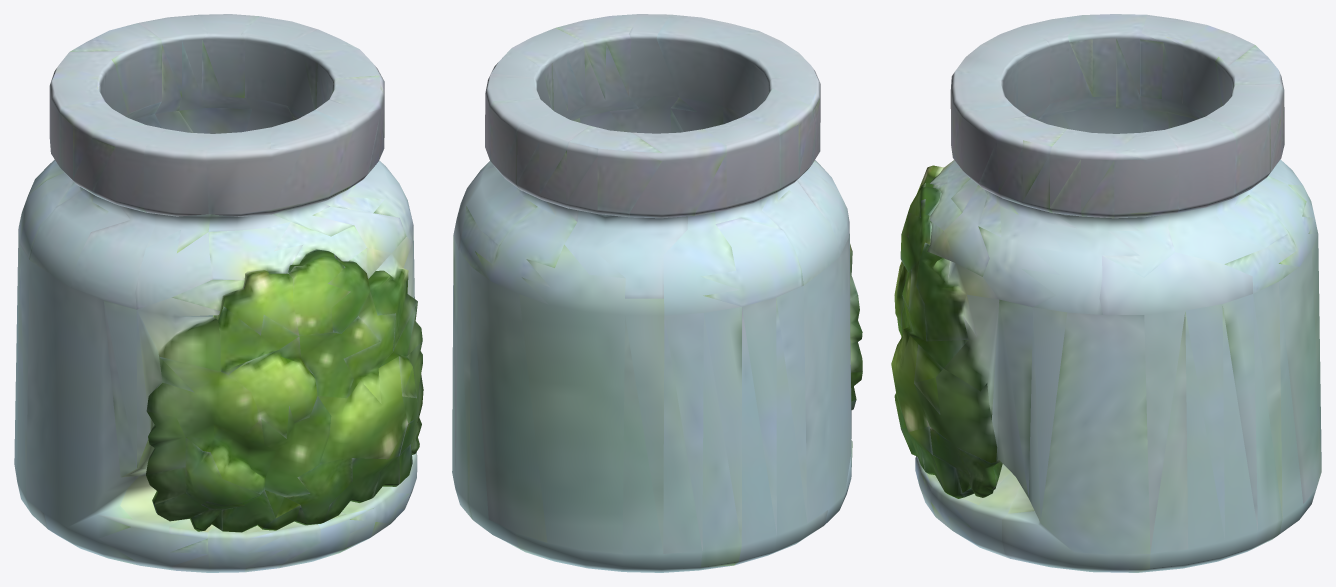
Rendered from item-glowmoss.glb.
The picture shows the model from 3 angles, left to right: view 1: azimuth 30°, elevation 25°; view 2: azimuth 150°, elevation 25°; view 3: azimuth 270°, elevation 25°; orthographic projection.
Size of the model in its own units: 0.8428 by 0.9517 by 0.9004.
1 material, 1 textured.
